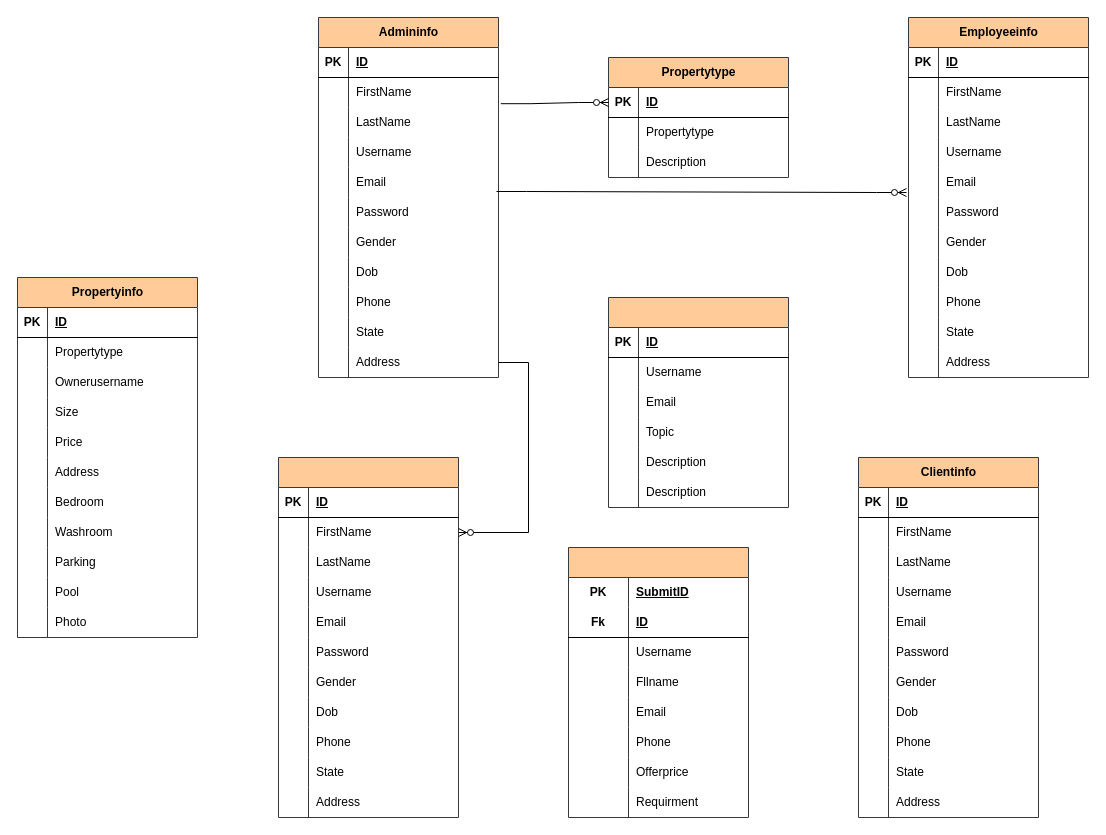
The diagram is 1106 pixels wide and 835 high, and some of its shapes have lost their labels. The shapes that lost their labels are listed below. From the top down, each one's box as (x1, y1, x2, y2) in pixels, then its label:
(608, 296, 788, 508): Isshueinfo
(278, 456, 458, 818): Ownerinfo
(568, 546, 748, 818): Sbmitpropertyinfo
